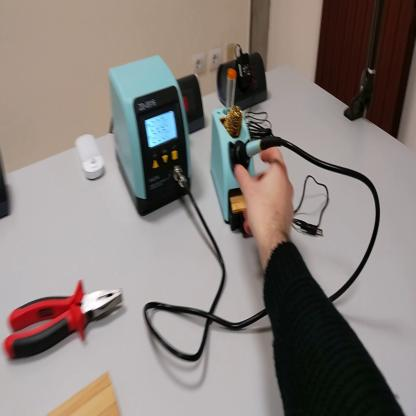hand: (235, 147, 295, 251)
pliers: (4, 277, 124, 363)
socket: (220, 45, 269, 117), (178, 71, 208, 137)
welder base: (212, 62, 262, 238)
welder probe tip: (229, 128, 286, 171)
welder station: (106, 49, 193, 219)
working area: (53, 374, 123, 414)
